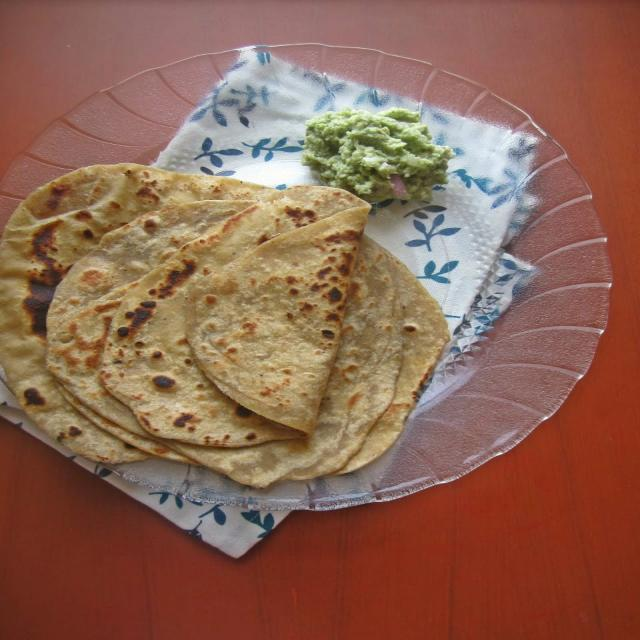dosa: (9, 165, 446, 486), (196, 177, 363, 451)
